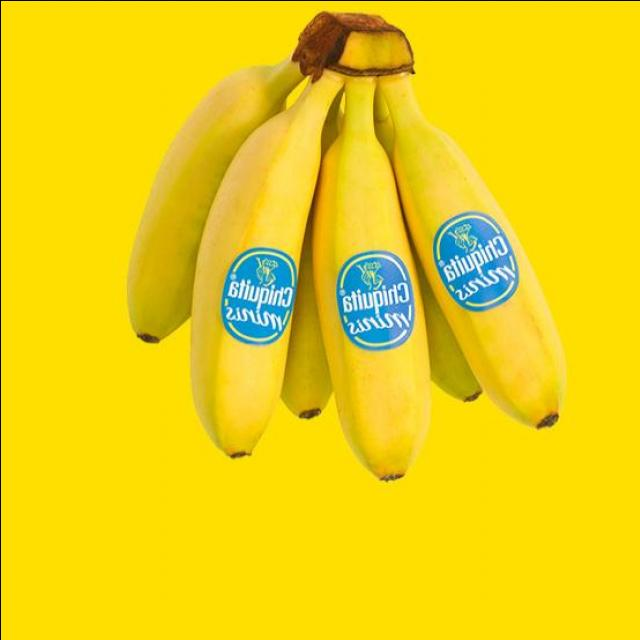banana: (375, 84, 572, 429), (113, 64, 288, 372), (195, 112, 325, 488), (308, 128, 436, 506)
